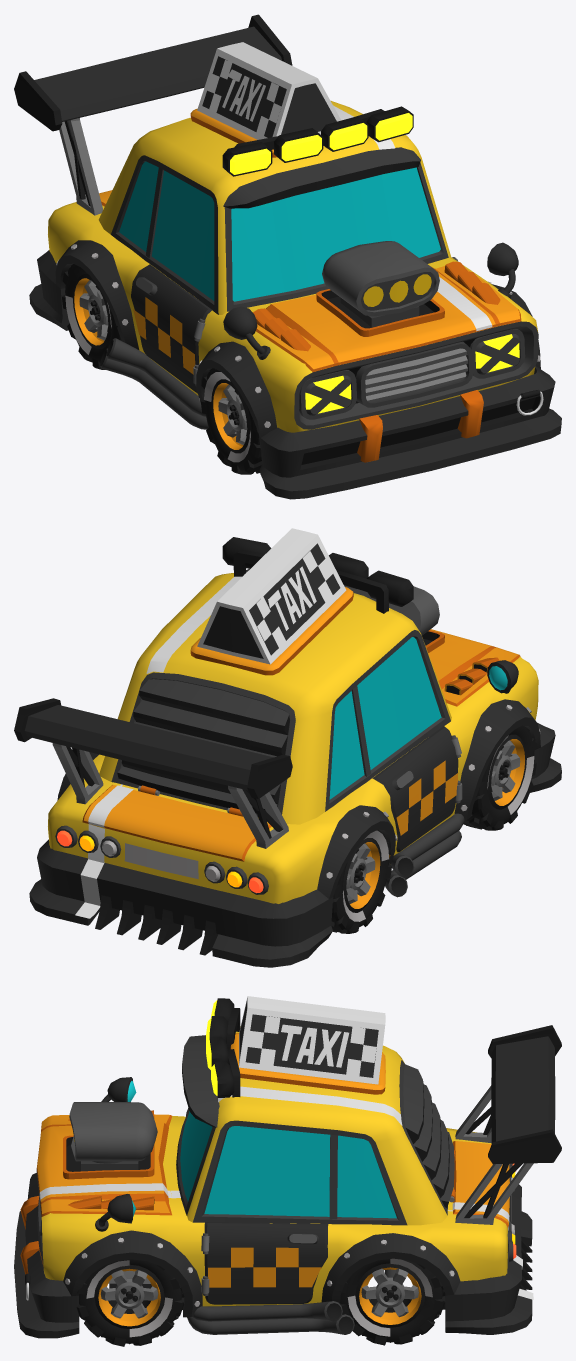
Rendered from SVehicle13.fbx.
3 views of the same model, one above another, from view 1: azimuth 30°, elevation 25°; view 2: azimuth 150°, elevation 25°; view 3: azimuth 270°, elevation 25° (orthographic). The views are drawn at different scales.
Parts seen in each view (by area): view 1: SVehicle13, SV13_Wheel_FR, SV13_Wheel_BR, SV13_Parts; view 2: SVehicle13, SV13_Parts, SV13_Wheel_FR, SV13_Wheel_BR; view 3: SVehicle13, SV13_Wheel_FL, SV13_Wheel_BL, SV13_Parts.
Part boxes in pixels (bbox=[...]): SVehicle13: bbox=[14, 14, 561, 499]; SV13_Wheel_FR: bbox=[200, 368, 262, 474]; SV13_Wheel_BR: bbox=[62, 264, 122, 369]; SV13_Parts: bbox=[222, 69, 543, 415]; SVehicle13: bbox=[14, 528, 561, 967]; SV13_Parts: bbox=[75, 566, 316, 918]; SV13_Wheel_FR: bbox=[463, 725, 537, 830]; SV13_Wheel_BR: bbox=[331, 829, 392, 933]; SVehicle13: bbox=[14, 996, 561, 1338]; SV13_Wheel_FL: bbox=[76, 1259, 184, 1346]; SV13_Wheel_BL: bbox=[338, 1258, 445, 1345]; SV13_Parts: bbox=[25, 1024, 533, 1300].
Size of the model in its own units: 256 by 249 by 434.
Materials: 1 (1 with a texture image).
